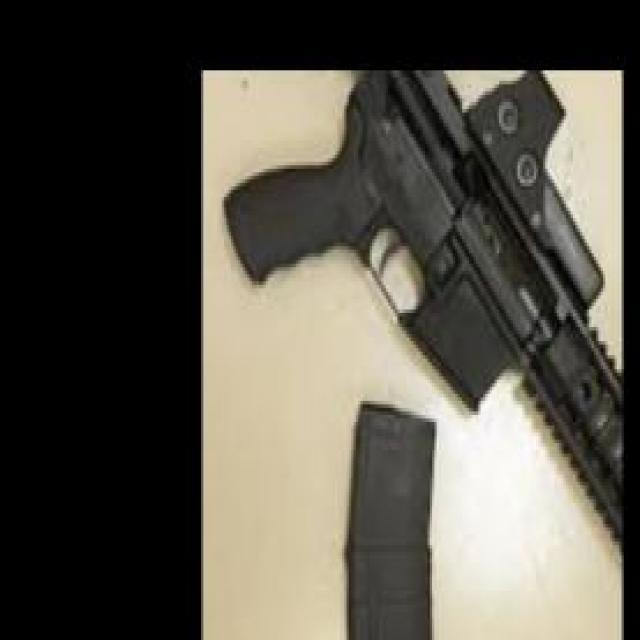weapon: (221, 70, 623, 558)
